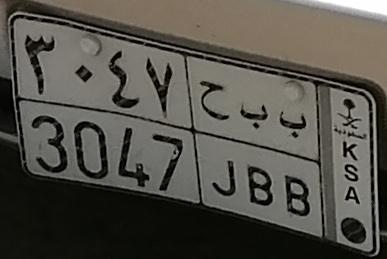0: (72, 63, 106, 182)
3: (25, 31, 68, 175)
4: (108, 50, 150, 189)
7: (145, 56, 183, 192)
B: (277, 109, 313, 217), (240, 101, 275, 208)
J: (198, 77, 237, 198)
